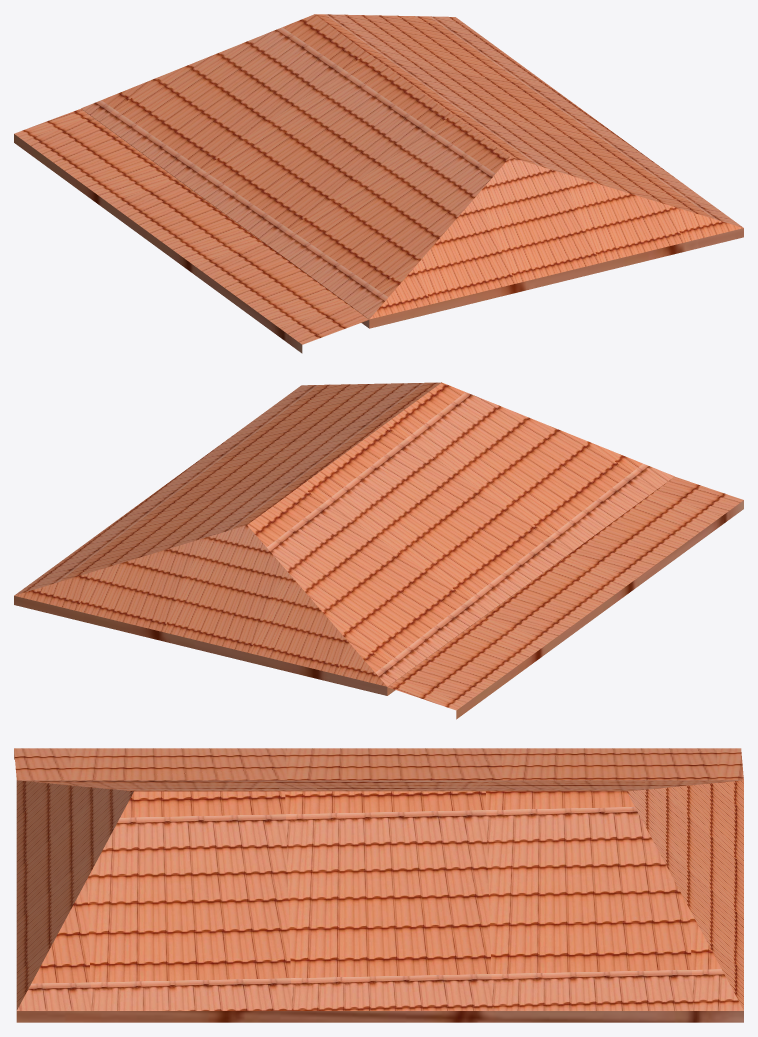
Rendered from acoperisCasaNPC.fbx.
3 views of the same model, one above another, from view 1: azimuth 30°, elevation 25°; view 2: azimuth 150°, elevation 25°; view 3: azimuth 270°, elevation 25° (orthographic). The views are drawn at different scales.
Parts seen in each view (by area): view 1: Acoperis; view 2: Acoperis; view 3: Acoperis.
Part boxes in pixels (x1,y1,x2,y2): Acoperis: [14, 14, 743, 353]; Acoperis: [14, 382, 743, 719]; Acoperis: [14, 748, 743, 1022].
Size of the model in its own units: 804 by 173 by 911.
Materials: 1 (1 with a texture image).
